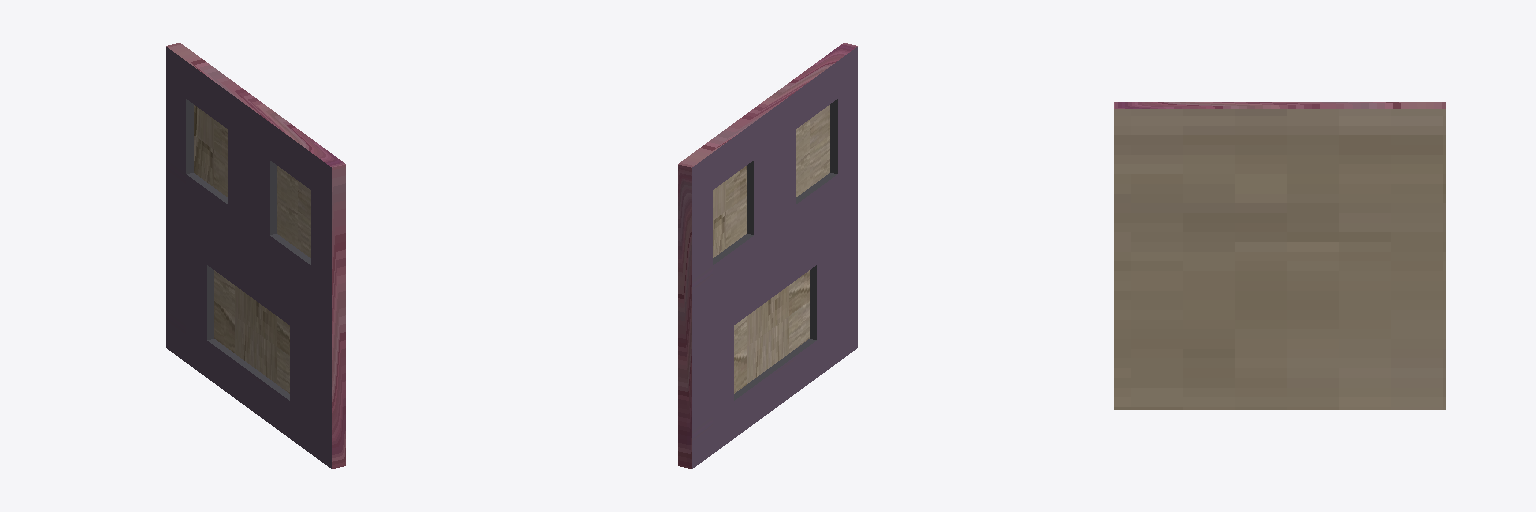
3 renders of one model, left to right at view 1: azimuth 30°, elevation 25°; view 2: azimuth 150°, elevation 25°; view 3: azimuth 270°, elevation 25°, orthographic.
Parts seen in each view (by area): view 1: Plane; view 2: Plane; view 3: Plane.
Boxes of the visible parts, x1=… form: Plane: x1=166, y1=43, x2=345, y2=468; Plane: x1=678, y1=43, x2=857, y2=468; Plane: x1=1114, y1=102, x2=1445, y2=409.
Size of the model in its own units: 3 by 60 by 60.
1 materials, 1 textured.